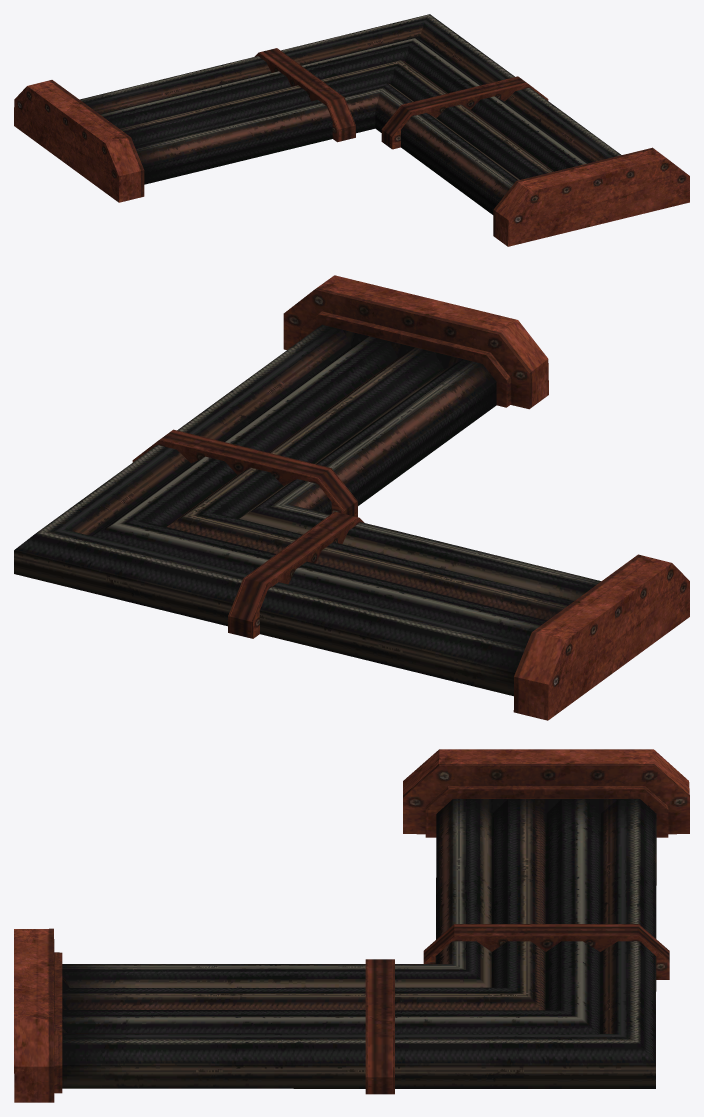
File: cables_wall_turn_short.dae
The picture shows the model from 3 angles, top to bottom: view 1: azimuth 30°, elevation 25°; view 2: azimuth 150°, elevation 25°; view 3: azimuth 270°, elevation 25°; orthographic projection. The views are drawn at different scales.
Visible parts, largest first — view 1: polySurface847; view 2: polySurface847; view 3: polySurface847.
Part boxes in pixels (x1,y1,x2,y2): polySurface847: [14, 14, 689, 246]; polySurface847: [14, 275, 689, 720]; polySurface847: [14, 749, 689, 1102].
Bounding box in the file's own units: 1.27 × 0.1408 × 1.27.
